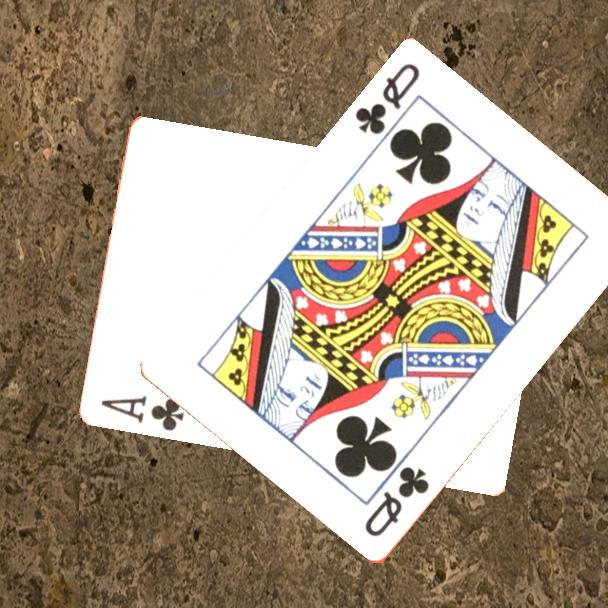c01: (98, 392, 188, 434)
c12: (351, 60, 424, 139), (361, 463, 433, 541)
